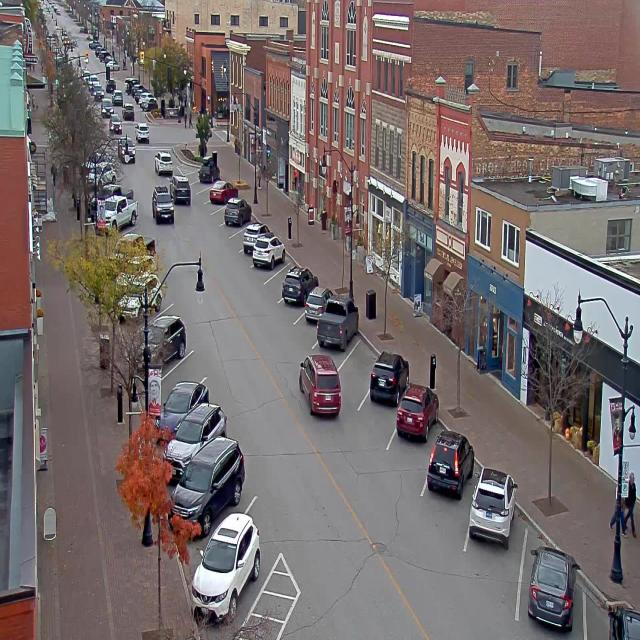available: (338, 332, 377, 394), (160, 342, 213, 383), (261, 260, 291, 306), (228, 222, 250, 250), (210, 205, 228, 227), (196, 184, 211, 205), (186, 166, 200, 183)
occupied: (168, 435, 246, 538), (193, 514, 269, 608), (527, 544, 579, 631), (468, 466, 517, 547), (426, 428, 475, 498), (155, 379, 209, 441), (171, 394, 233, 446), (397, 383, 437, 443), (316, 296, 358, 352), (368, 349, 409, 405), (594, 588, 639, 639), (142, 312, 186, 364), (282, 264, 318, 305), (252, 232, 285, 269), (305, 284, 335, 322), (224, 196, 252, 226), (243, 224, 266, 253), (210, 181, 237, 204), (198, 160, 219, 183)
